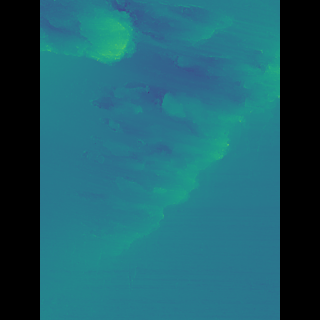Loch: (78, 0, 252, 263)
